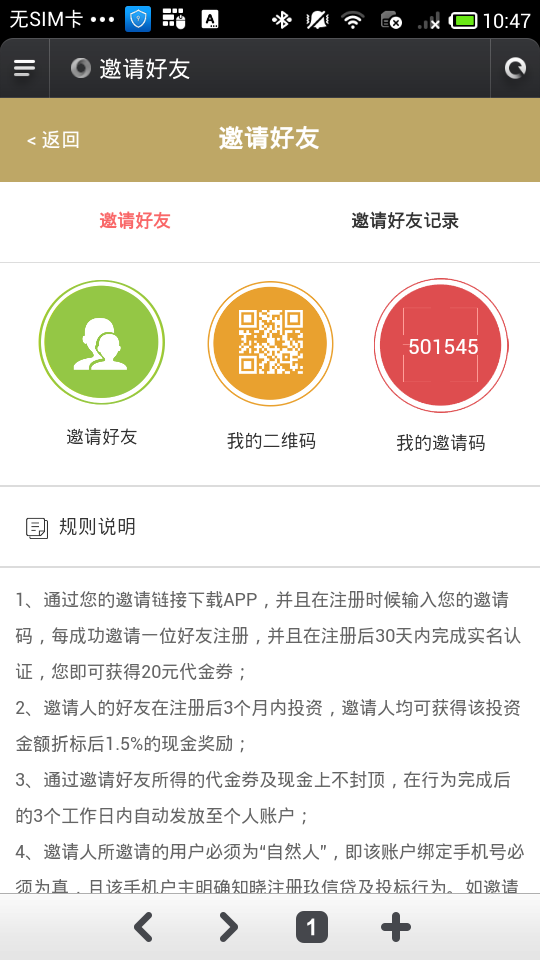imgbutton: (368, 260, 515, 411), (202, 275, 337, 408), (32, 278, 165, 405), (118, 901, 168, 952), (372, 907, 419, 950), (290, 907, 340, 947), (209, 906, 250, 951), (500, 51, 531, 90), (10, 54, 40, 81)
textview: (1, 572, 534, 873)
